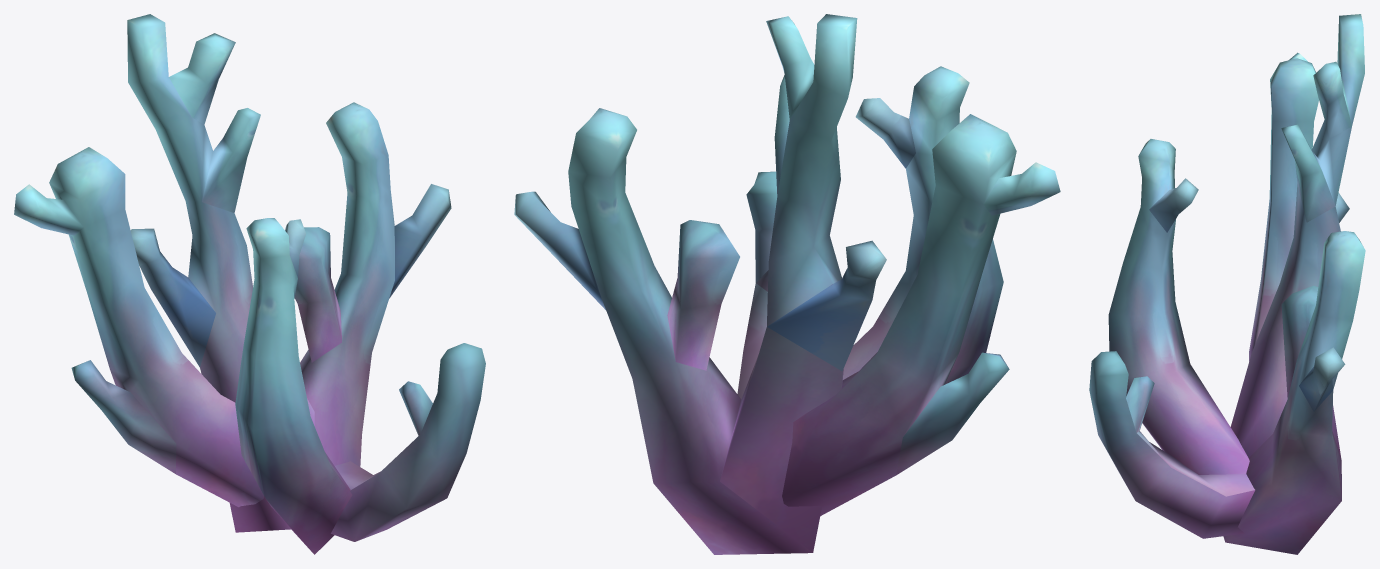
File: Map_09_coral03.FBX
3 renders of one model, left to right at view 1: azimuth 30°, elevation 25°; view 2: azimuth 150°, elevation 25°; view 3: azimuth 270°, elevation 25°, orthographic. The views are drawn at different scales.
Parts seen in each view (by area): view 1: Map_09_coral03; view 2: Map_09_coral03; view 3: Map_09_coral03.
Boxes of the visible parts, <box> form: Map_09_coral03: <box>14,14,485,554</box>; Map_09_coral03: <box>514,14,1060,554</box>; Map_09_coral03: <box>1089,14,1365,554</box>.
Size of the model in its own units: 221 by 240 by 127.
